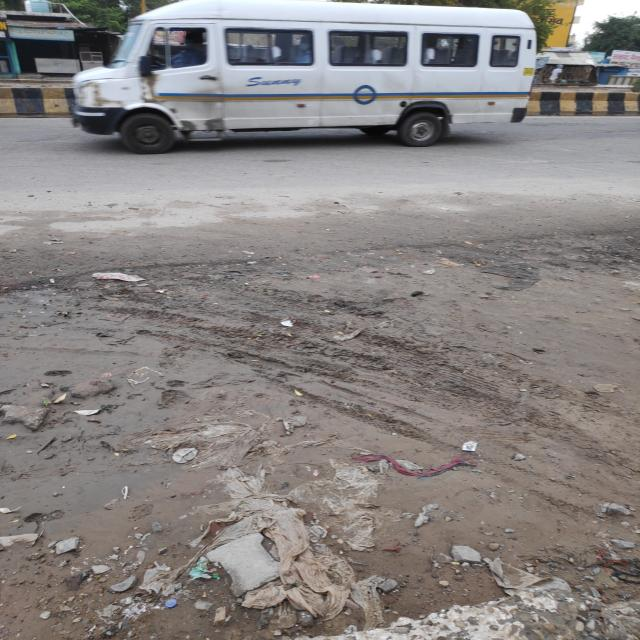Bus: (66, 0, 537, 158)
